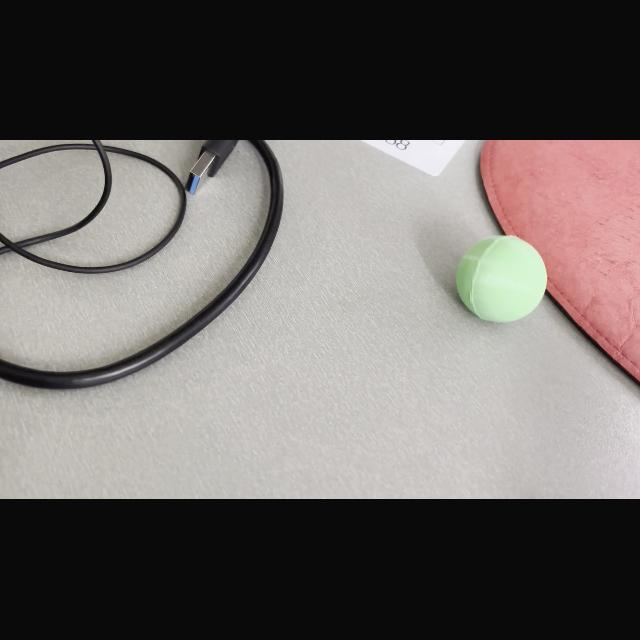objects: (447, 230, 551, 326)
